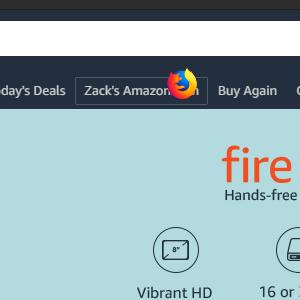firefox: (167, 66, 197, 100)
